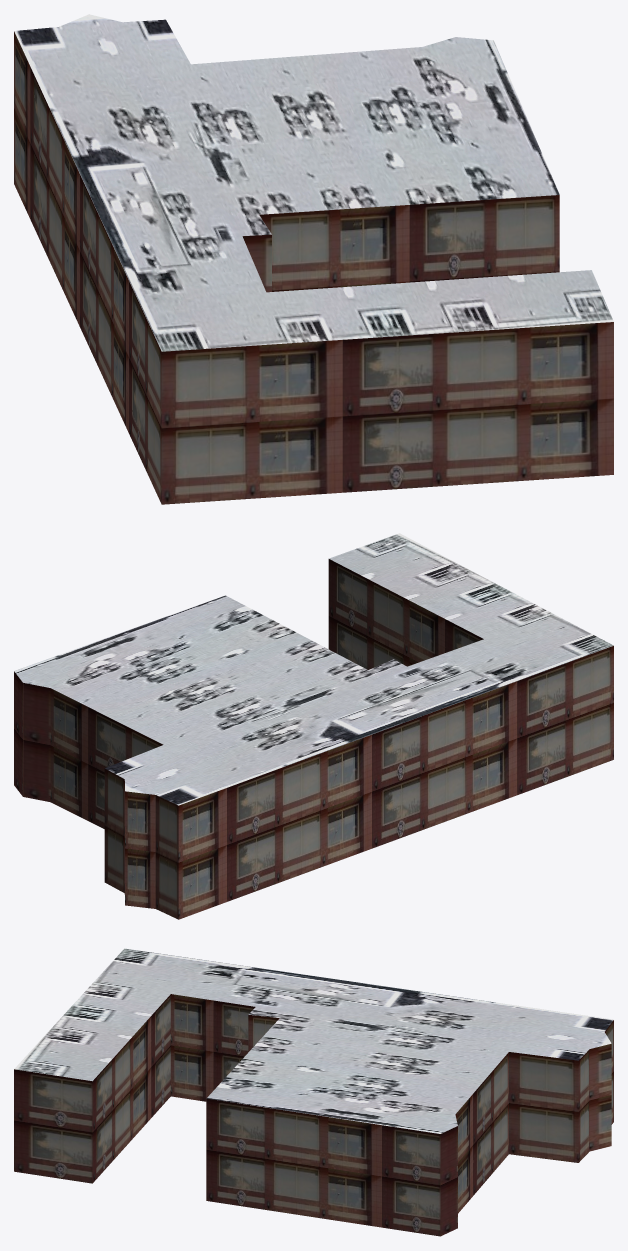
The model's file is ResTex__2234.fbx.
3 views of the same model, one above another, from view 1: azimuth 30°, elevation 25°; view 2: azimuth 150°, elevation 25°; view 3: azimuth 270°, elevation 25° (orthographic). The views are drawn at different scales.
Visible parts, largest first — view 1: CityEngineMaterial_13_m, CityEngineMaterial_2_m; view 2: CityEngineMaterial_13_m, CityEngineMaterial_2_m; view 3: CityEngineMaterial_13_m, CityEngineMaterial_2_m.
Boxes of the visible parts, left/top/right/bottom form: CityEngineMaterial_13_m: left=14, top=31, right=613, bottom=504; CityEngineMaterial_2_m: left=14, top=14, right=613, bottom=351; CityEngineMaterial_13_m: left=14, top=559, right=613, bottom=919; CityEngineMaterial_2_m: left=14, top=533, right=613, bottom=805; CityEngineMaterial_13_m: left=14, top=994, right=613, bottom=1236; CityEngineMaterial_2_m: left=14, top=948, right=613, bottom=1133.
Bounding box in the file's own units: 23.32 × 6 × 31.86.
2 materials, 2 textured.
